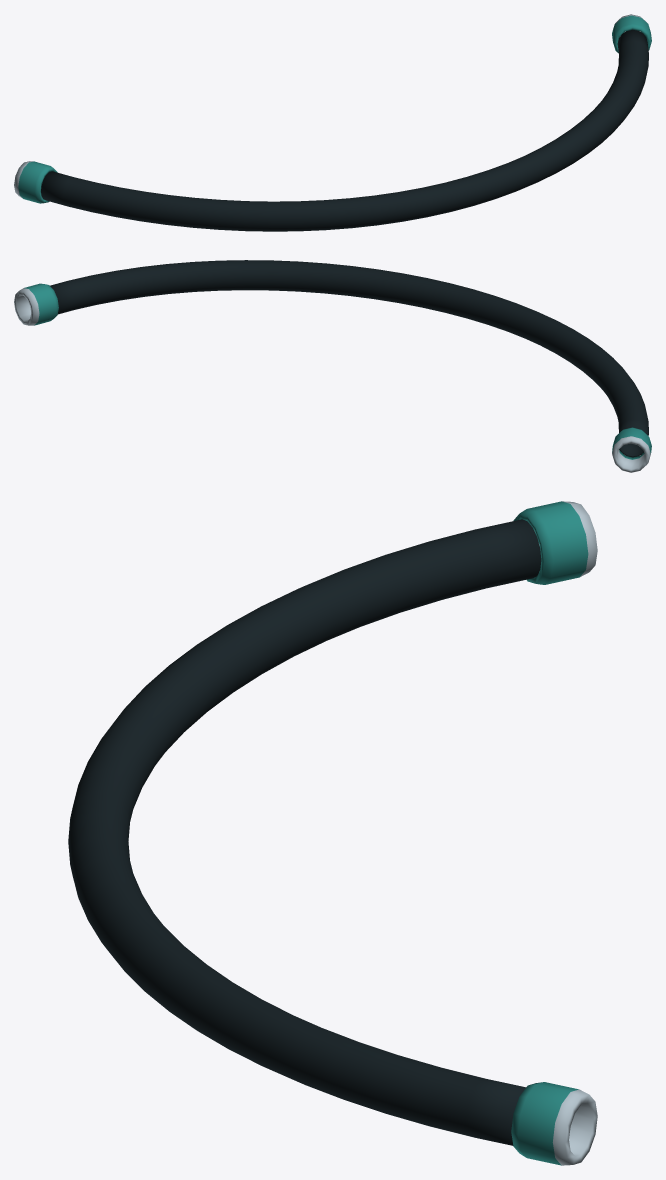
File: VLAB_air_hose.fbx
3 renders of one model, top to bottom at view 1: azimuth 30°, elevation 25°; view 2: azimuth 150°, elevation 25°; view 3: azimuth 270°, elevation 25°, orthographic. The views are drawn at different scales.
Parts seen in each view (by area): view 1: VLAB_air_hose_GuideCurve_VIS, VLAB_air_hose_ConnectorA_VIS, VLAB_air_hose_ConnectorB_VIS; view 2: VLAB_air_hose_GuideCurve_VIS, VLAB_air_hose_ConnectorB_VIS, VLAB_air_hose_ConnectorA_VIS; view 3: VLAB_air_hose_GuideCurve_VIS, VLAB_air_hose_ConnectorB_VIS, VLAB_air_hose_ConnectorA_VIS.
Boxes of the visible parts, x1,y1,x2,y2 form: VLAB_air_hose_GuideCurve_VIS: [41, 30, 648, 231]; VLAB_air_hose_ConnectorA_VIS: [14, 161, 57, 203]; VLAB_air_hose_ConnectorB_VIS: [612, 14, 651, 53]; VLAB_air_hose_GuideCurve_VIS: [50, 260, 648, 457]; VLAB_air_hose_ConnectorB_VIS: [14, 283, 58, 325]; VLAB_air_hose_ConnectorA_VIS: [612, 427, 651, 472]; VLAB_air_hose_GuideCurve_VIS: [68, 519, 541, 1145]; VLAB_air_hose_ConnectorB_VIS: [511, 1082, 597, 1165]; VLAB_air_hose_ConnectorA_VIS: [513, 501, 597, 584].
Bounding box in the file's own units: 0.487 × 0.026 × 0.1758.
